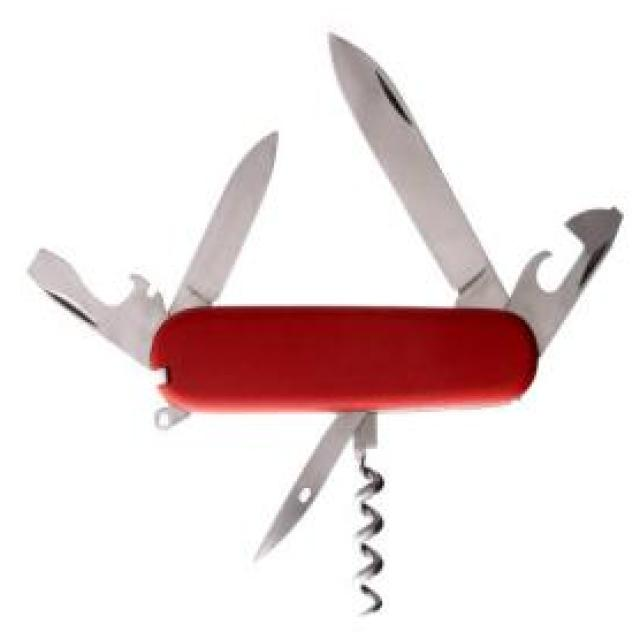knife: (324, 30, 514, 307), (168, 125, 283, 346), (18, 230, 189, 378), (509, 203, 628, 382)
